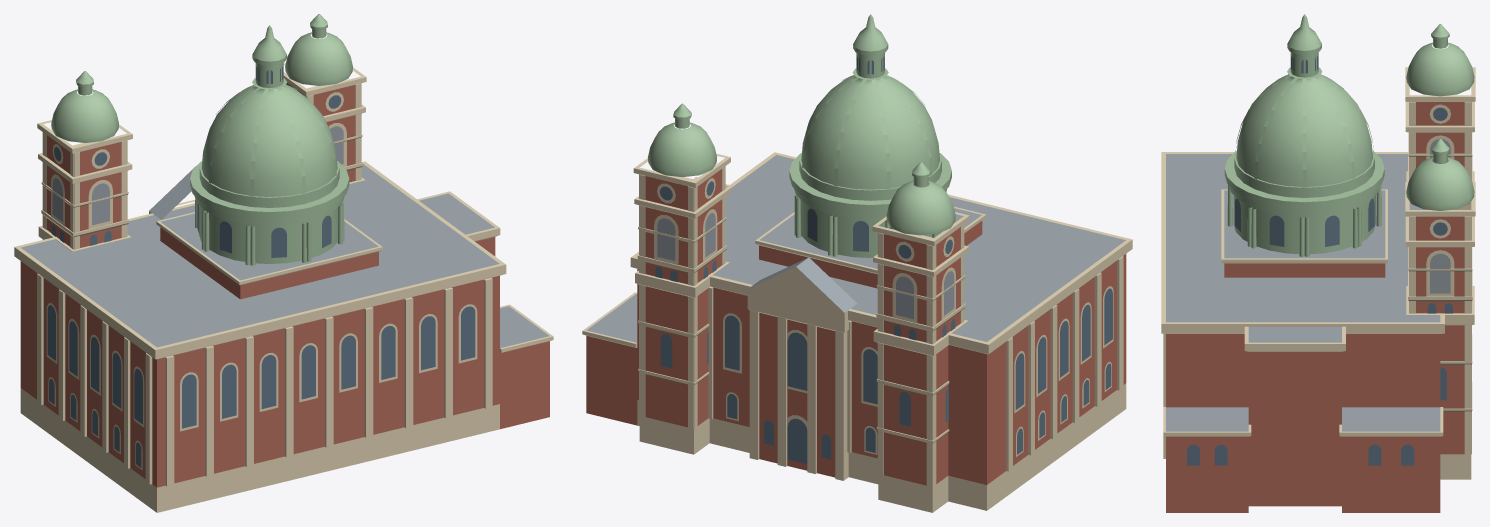
Rendered from pit-immaculate-heart-of-mary.glb.
The picture shows the model from 3 angles, left to right: view 1: azimuth 30°, elevation 25°; view 2: azimuth 150°, elevation 25°; view 3: azimuth 270°, elevation 25°; orthographic projection. The views are drawn at different scales.
Parts seen in each view (by area): view 1: Immaculate Heart of Mary Church; view 2: Immaculate Heart of Mary Church; view 3: Immaculate Heart of Mary Church.
Part boxes in pixels (x1,y1,x2,y2): Immaculate Heart of Mary Church: [14, 14, 553, 512]; Immaculate Heart of Mary Church: [582, 14, 1132, 512]; Immaculate Heart of Mary Church: [1161, 14, 1475, 512].
Bounding box in the file's own units: 49.5 × 46.6 × 33.55.
